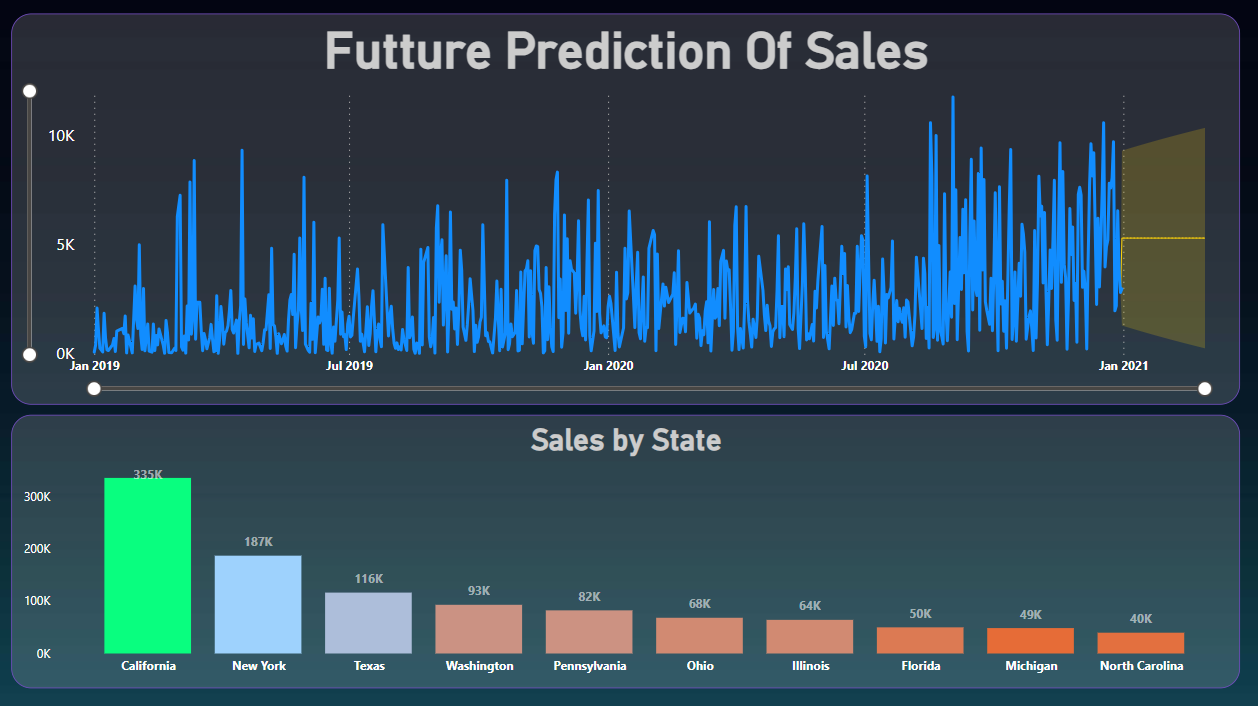

Layout of this report page (visuals, bound fields, positions):
{"tool":"powerbi","page":{"name":"Page 2","canvas":[1280,720],"ordinal":1},"visuals":[{"type":"lineChart","title":"Future Prediction Of Sales","fields":{"Category":["SalesForecast.Order Date"],"Y":["Sum(SalesForecast.Total Sales)"]},"box":[26.2,17.5,1228.8,391.2],"z":0},{"type":"columnChart","title":"Sales by State","fields":{"Category":["SuperStore_Sales_Dataset.State"],"Y":["Sum(SuperStore_Sales_Dataset.Sales)"]},"box":[26.2,418.8,1228.8,273.8],"z":1000}]}

Visuals, with their boxes in screenshot pixels (x1, y1, x2, y2), scaled from the page's 1280x720 canvas onto the 1258x706 screenshot:
"Future Prediction Of Sales" lineChart: (left=26, top=17, right=1233, bottom=401)
"Sales by State" columnChart: (left=26, top=411, right=1233, bottom=679)
